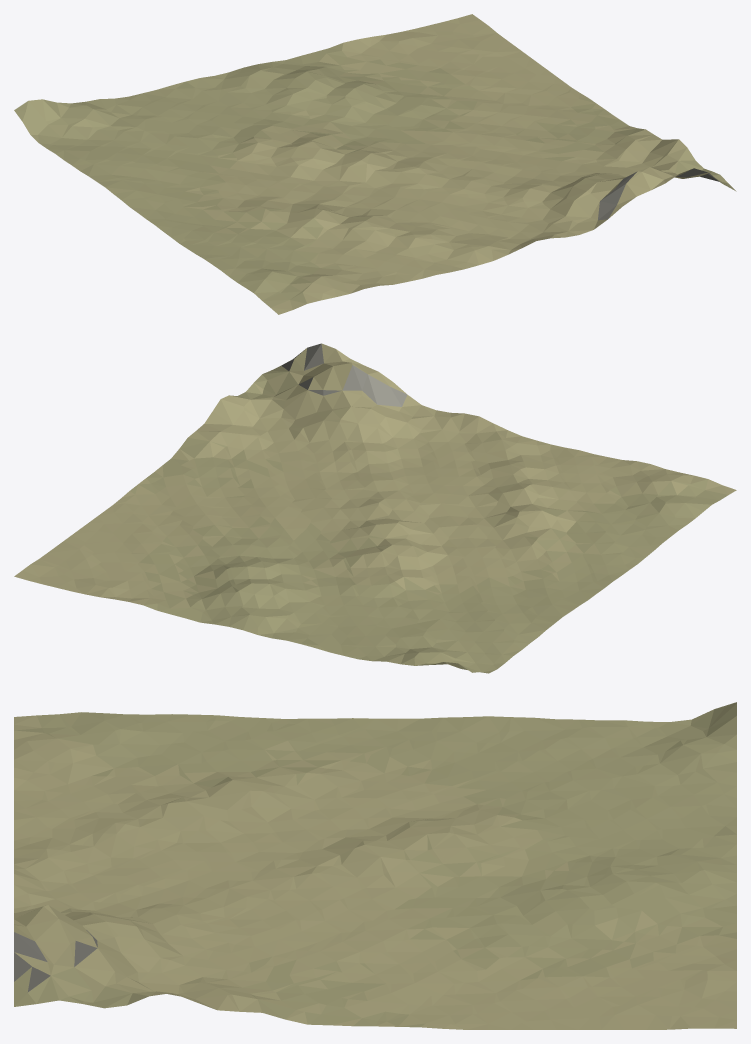
The model's file is Ground_-5_-8.glb.
The picture shows the model from 3 angles, top to bottom: view 1: azimuth 30°, elevation 25°; view 2: azimuth 150°, elevation 25°; view 3: azimuth 270°, elevation 25°; orthographic projection. The views are drawn at different scales.
Parts seen in each view (by area): view 1: Ground_-5_-8; view 2: Ground_-5_-8; view 3: Ground_-5_-8.
Boxes of the visible parts, x1=… form: Ground_-5_-8: x1=14, y1=14, x2=736, y2=314; Ground_-5_-8: x1=14, y1=343, x2=736, y2=673; Ground_-5_-8: x1=14, y1=702, x2=736, y2=1029.
Size of the model in its own units: 768 by 81.29 by 768.
